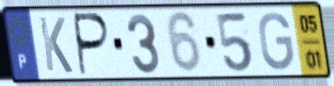3: (126, 12, 161, 76)
5: (213, 9, 255, 74)
6: (165, 9, 206, 77)
G: (257, 10, 296, 73)
K: (36, 14, 76, 75)
P: (73, 11, 113, 79)
